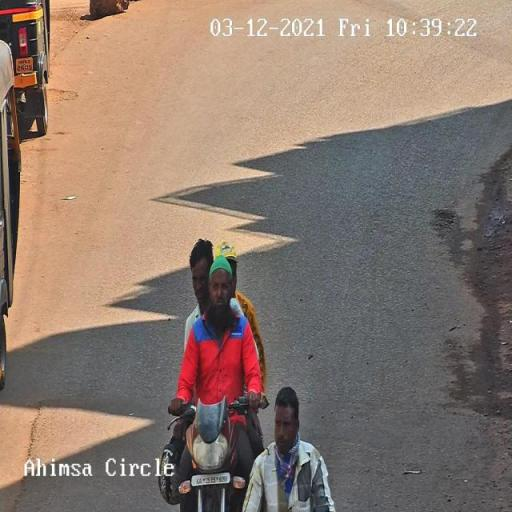tripple riding: (178, 236, 263, 386)
